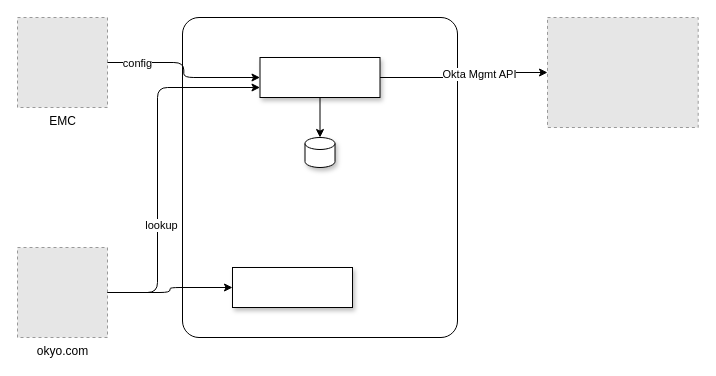
Some shapes in this 716 by 376 pixel diagram are drawn without their labels. Grey dashed boxes stand in for pictures. The shapes that lost their labels are listed below. From the top down, each one's centre as x and y in pixels, then its label:
At [320,78]: "Tenant Service".
At [293,288]: "Employ Service".
